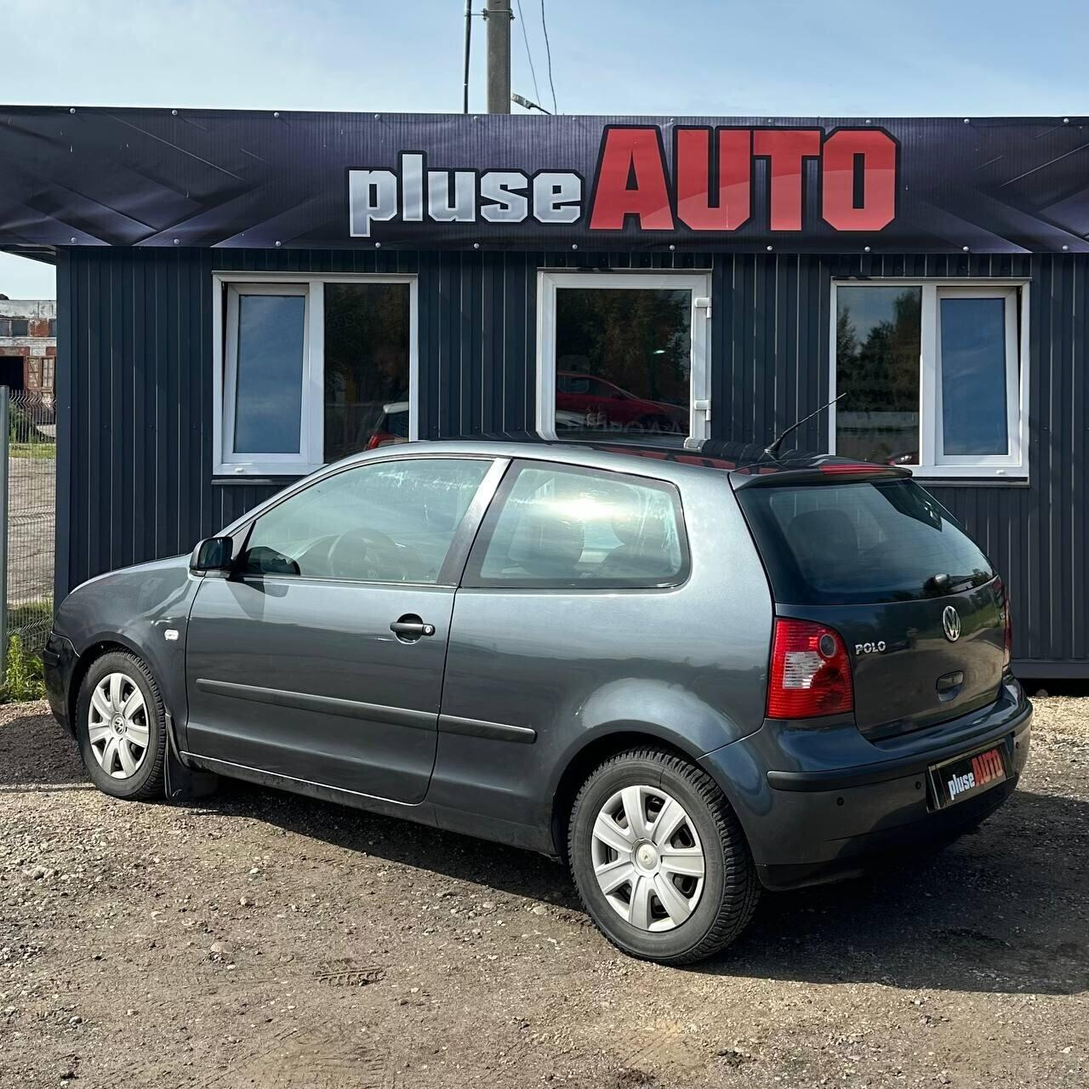Polo_2001-2005: (36, 428, 1033, 975)
